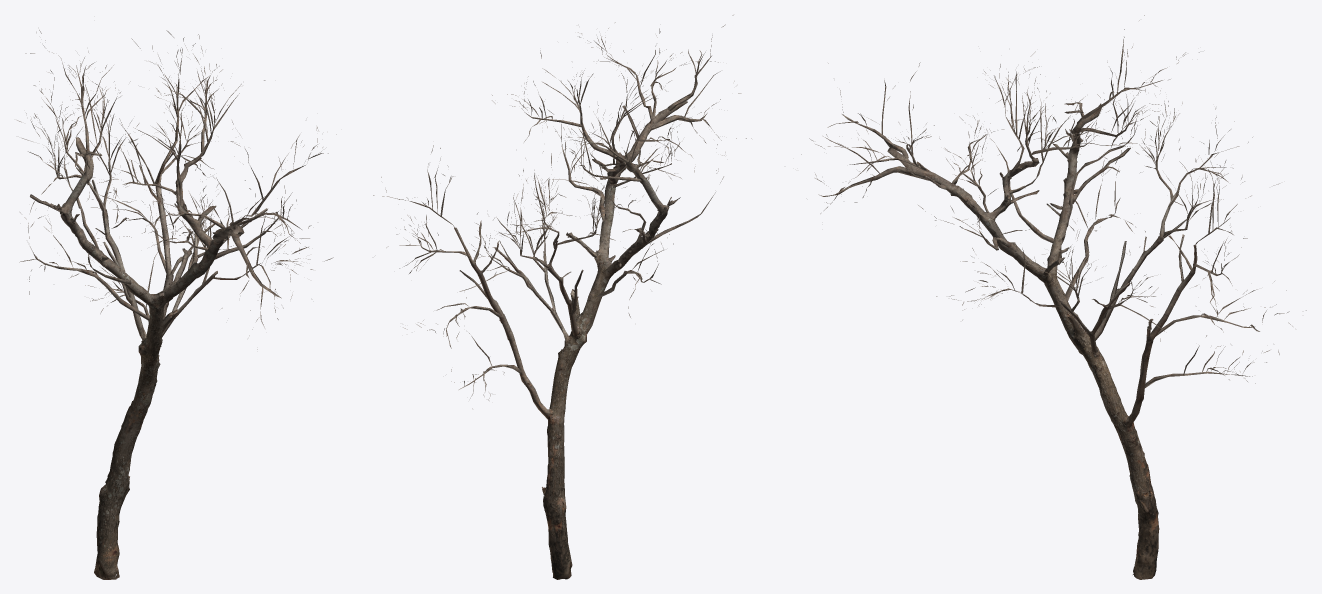
The model's file is ForestTree.glb.
The picture shows the model from 3 angles, left to right: view 1: azimuth 30°, elevation 25°; view 2: azimuth 150°, elevation 25°; view 3: azimuth 270°, elevation 25°; orthographic projection. The views are drawn at different scales.
Visible parts, largest first — view 1: ForestTree1, ForestTree2; view 2: ForestTree1, ForestTree2; view 3: ForestTree1, ForestTree2.
Boxes of the visible parts, <box> form: ForestTree1: <box>30,137,267,579</box>; ForestTree2: <box>17,30,336,349</box>; ForestTree1: <box>454,101,687,579</box>; ForestTree2: <box>373,15,751,408</box>; ForestTree1: <box>887,102,1197,579</box>; ForestTree2: <box>801,15,1306,388</box>.
Size of the model in its own units: 2.23 by 4.39 by 3.93.
Materials: 2 (2 with a texture image).
